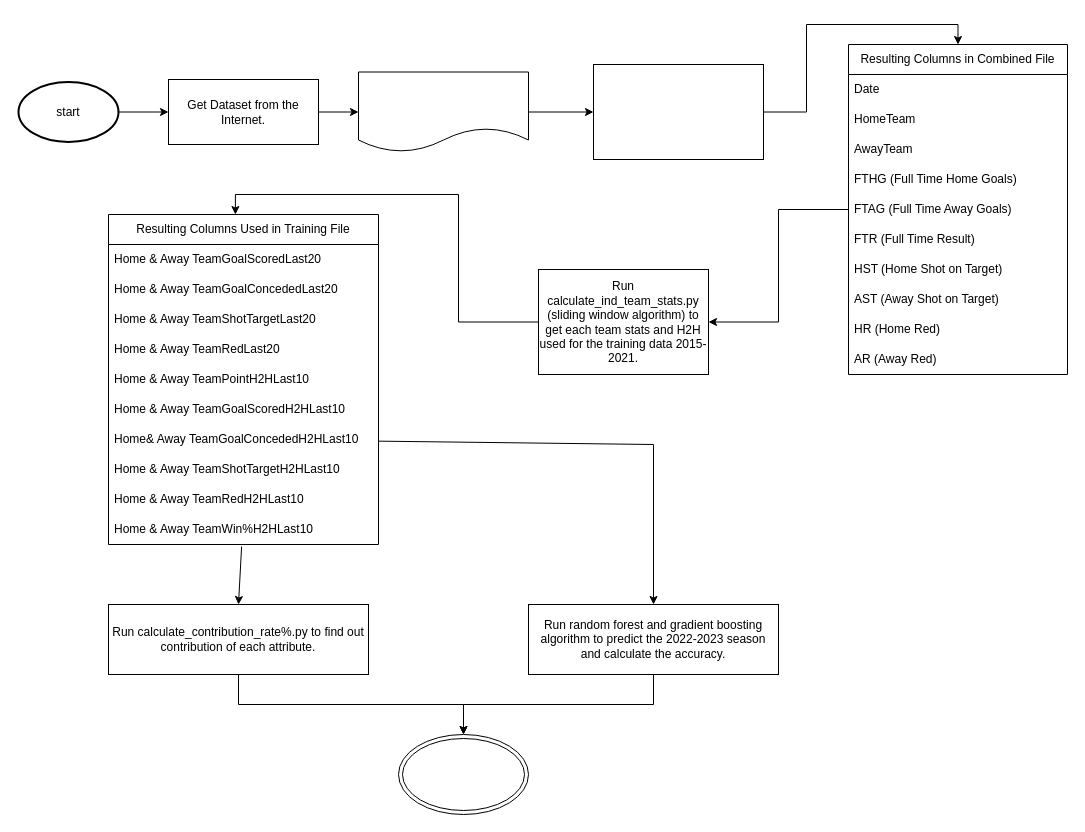
Image size: 1085x832. Some labels were removed from this diagram. The shapes that lost their labels are listed below. From the top down, each one's centre as x and y in pixels, then its label:
At (443,111): "English Premier League Datasets. 2001 - 2022 csv files".
At (678,112): "Remove unused columns and combine all csv files using combined_all_data.py".
At (463,774): "end".
